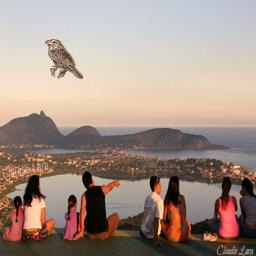Sparrow: (45, 39, 83, 79)
